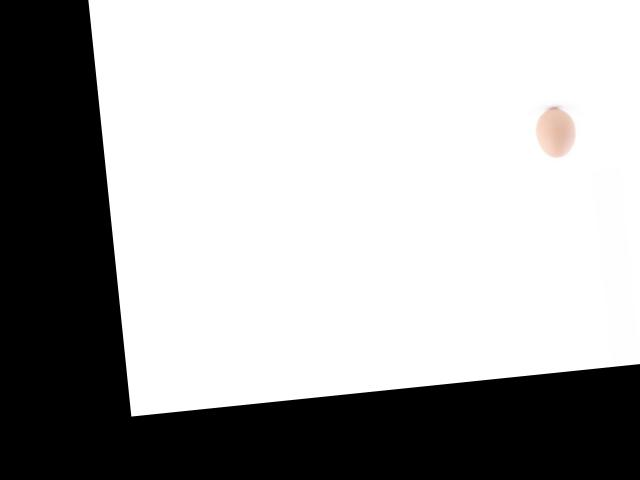egg: (534, 106, 579, 159)
